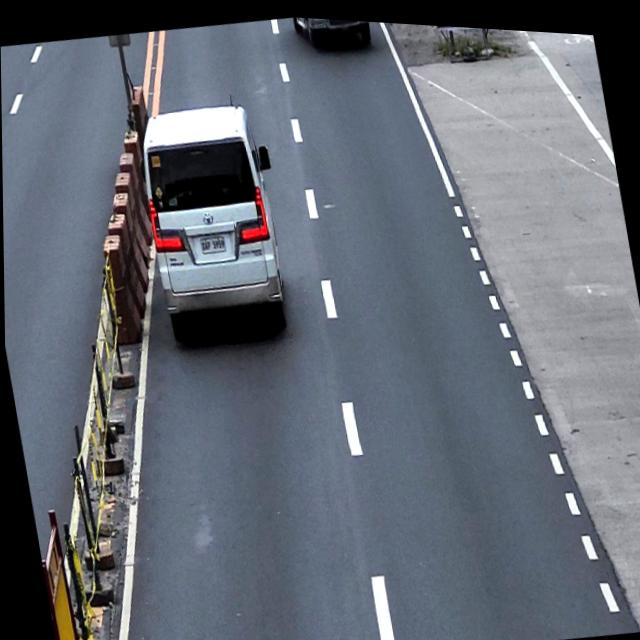Car: (130, 87, 297, 337)
License-Plate: (197, 229, 227, 254)
